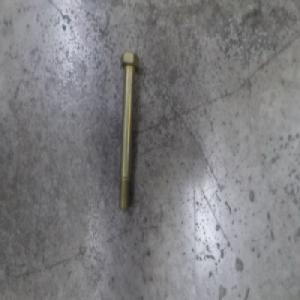Bolt: (117, 49, 140, 215)
